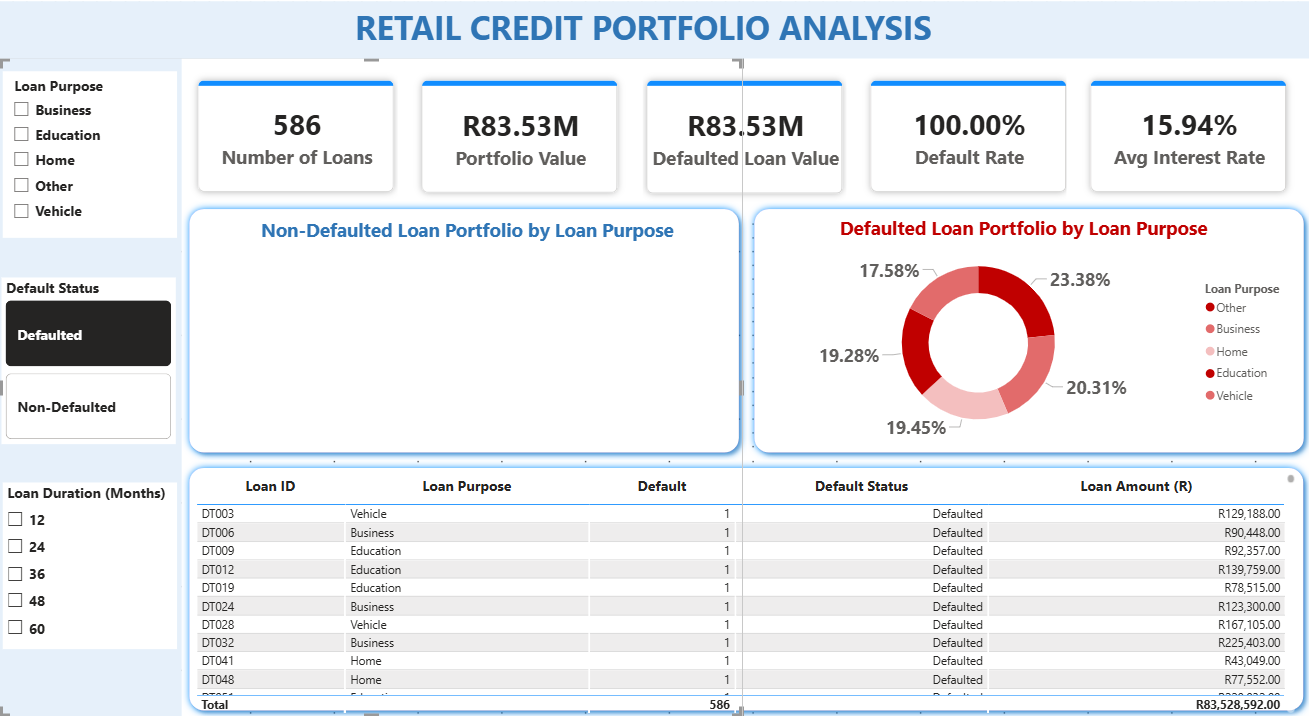

Layout of this report page (visuals, bound fields, positions):
{"tool":"powerbi","page":{"name":"Summary","canvas":[1500,820],"ordinal":0},"visuals":[{"type":"group","id":"g1","title":"Group 1","box":[199.8,64.9,1300.4,185.6],"z":0},{"type":"cardVisual","fields":{"Data":["Sum(Loan.LoanAmount)"]},"box":[712.7,65,279.9,185.5],"z":0,"group":"g1"},{"type":"cardVisual","fields":{"Data":["CountNonNull(Loan.LoanID)"]},"box":[199.8,65,279.8,183.3],"z":1000,"group":"g1"},{"type":"shape","box":[854.2,229.4,646,296.1],"z":1000},{"type":"cardVisual","fields":{"Data":["Sum(Loan.LoanAmount)"]},"box":[455.5,64.9,279.8,184.9],"z":2000,"group":"g1"},{"type":"shape","box":[208.3,229.4,646,296.1],"z":2000},{"type":"shape","box":[0,0.9,1500,65.5],"z":3000,"group":"g3"},{"type":"cardVisual","fields":{"Data":["Avg(Loan.Default)"]},"box":[968.1,65,279.9,183.9],"z":3000,"group":"g1"},{"type":"cardVisual","fields":{"Data":["Avg(Loan.InterestRate_Decimal)"]},"box":[1220.3,65,279.9,183.9],"z":4000,"group":"g1"},{"type":"donutChart","title":"Non-Defaulted Loan Portfolio by Loan Purpose","fields":{"Category":["Loan.LoanPurpose"],"Y":["CountNonNull(Loan.LoanID)"]},"box":[220.3,247.6,630.4,263.7],"z":4000,"group":"g2"},{"type":"textbox","box":[95,1,1281.2,72.5],"z":5000,"group":"g3"},{"type":"shape","box":[0,65.9,209,754.2],"z":6000,"group":"g2"},{"type":"donutChart","title":"Defaulted Loan Portfolio by Loan Purpose","fields":{"Category":["Loan.LoanPurpose"],"Y":["CountNonNull(Loan.LoanID)"]},"box":[855.5,246,630.4,263.7],"z":7000},{"type":"shape","box":[208.9,525,1291,295.2],"z":8000},{"type":"tableEx","fields":{"Values":["Loan.LoanID","Loan.LoanPurpose","Sum(Loan.Default)","Loan.Default Status","Sum(Loan.LoanAmount)"]},"box":[220,537.6,1265.9,282.7],"z":9000},{"type":"slicer","title":"Loan Purpose","fields":{"Values":["Loan.LoanPurpose"]},"box":[4.2,82.1,199.2,190.8],"z":10000,"group":"g2"},{"type":"advancedSlicerVisual","fields":{"Values":["Loan.Default Status"]},"box":[2.8,317.2,199,190],"z":11000,"group":"g2"},{"type":"listSlicer","fields":{"Values":["Loan.LoanTerm"]},"box":[4.2,551.5,199,190],"z":12000,"group":"g2"},{"type":"group","id":"g2","title":"Group 2","box":[0,65.9,850.7,754.2],"z":12001},{"type":"group","id":"g3","title":"Group 3","box":[0,0.9,1500,72.6],"z":12002}]}

Visuals, with their boxes in screenshot pixels (x1, y1, x2, y2), scaled from the page's 1500x820 canvas onto the 1309x716 screenshot:
"Group 1" group: <region>174, 57, 1308, 219</region>
cardVisual - Sum(Loan.LoanAmount): <region>622, 57, 866, 219</region>
cardVisual - CountNonNull(Loan.LoanID): <region>174, 57, 419, 217</region>
shape: <region>745, 200, 1308, 459</region>
cardVisual - Sum(Loan.LoanAmount): <region>397, 57, 642, 218</region>
shape: <region>182, 200, 746, 459</region>
shape: <region>0, 1, 1308, 58</region>
cardVisual - Avg(Loan.Default): <region>845, 57, 1089, 217</region>
cardVisual - Avg(Loan.InterestRate_Decimal): <region>1065, 57, 1308, 217</region>
"Non-Defaulted Loan Portfolio by Loan Purpose" donutChart: <region>192, 216, 742, 446</region>
textbox: <region>83, 1, 1201, 64</region>
shape: <region>0, 58, 182, 715</region>
"Defaulted Loan Portfolio by Loan Purpose" donutChart: <region>747, 215, 1297, 445</region>
shape: <region>182, 458, 1308, 715</region>
tableEx - Loan.LoanID x Loan.LoanPurpose: <region>192, 469, 1297, 715</region>
"Loan Purpose" slicer: <region>4, 72, 178, 238</region>
advancedSlicerVisual - Loan.Default Status: <region>2, 277, 176, 443</region>
listSlicer - Loan.LoanTerm: <region>4, 482, 177, 647</region>
"Group 2" group: <region>0, 58, 742, 715</region>
"Group 3" group: <region>0, 1, 1308, 64</region>
